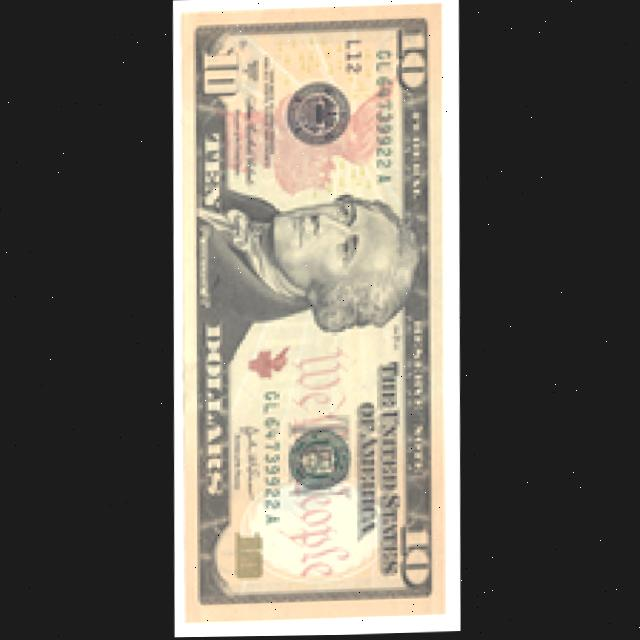banknote: (173, 0, 457, 626)
